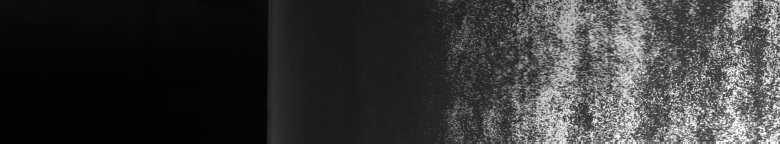kb: (460, 4, 776, 136)
